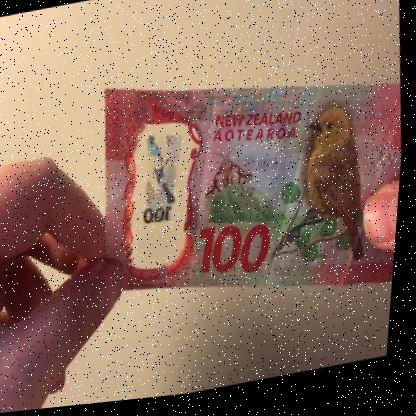100B: (136, 127, 197, 256)
